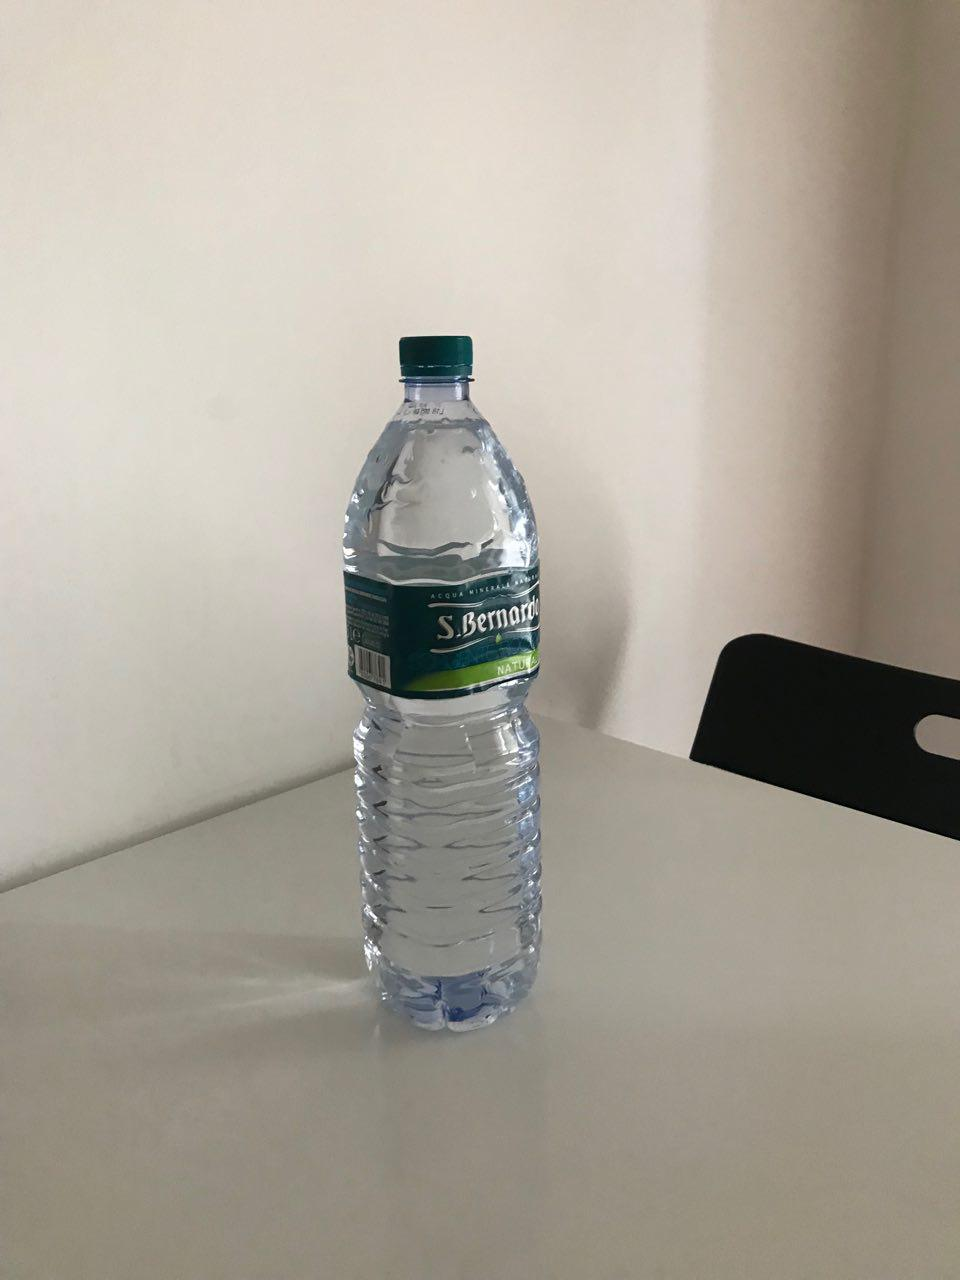san_bernardo: (341, 335, 545, 1033)
